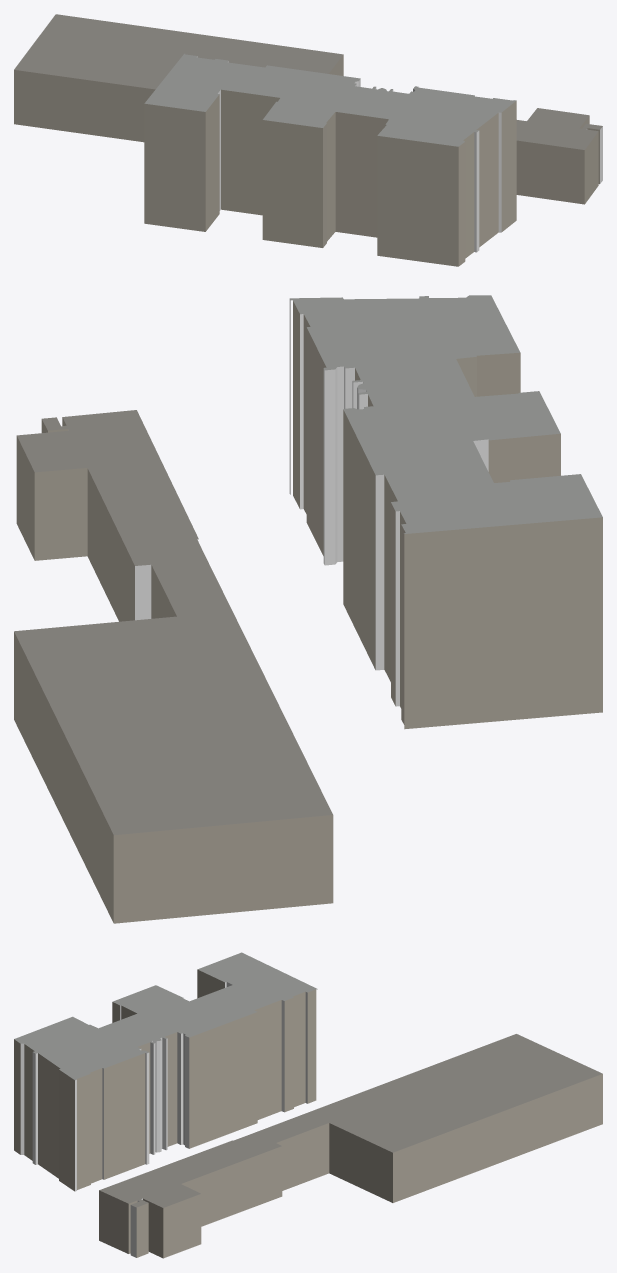
3 renders of one model, top to bottom at view 1: azimuth 30°, elevation 25°; view 2: azimuth 150°, elevation 25°; view 3: azimuth 270°, elevation 25°, orthographic. The views are drawn at different scales.
Parts seen in each view (by area): view 1: tuile; view 2: tuile; view 3: tuile.
Part boxes in pixels (x1,y1,x2,y2): tuile: (14,14,602,266); tuile: (14,295,602,923); tuile: (14,952,602,1258).
Bounding box in the file's own units: 131 × 41.52 × 179.
